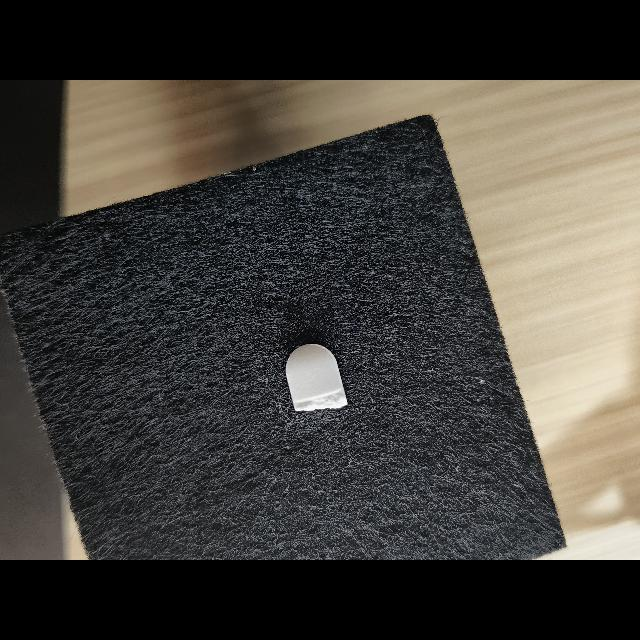Chipped Pill: (286, 344, 348, 411)
